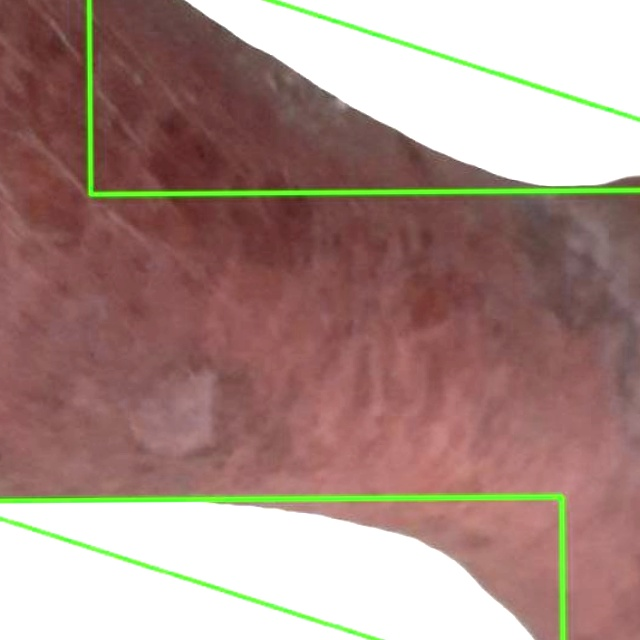Eczema: (0, 0, 639, 639), (89, 0, 639, 194), (0, 497, 563, 639)
